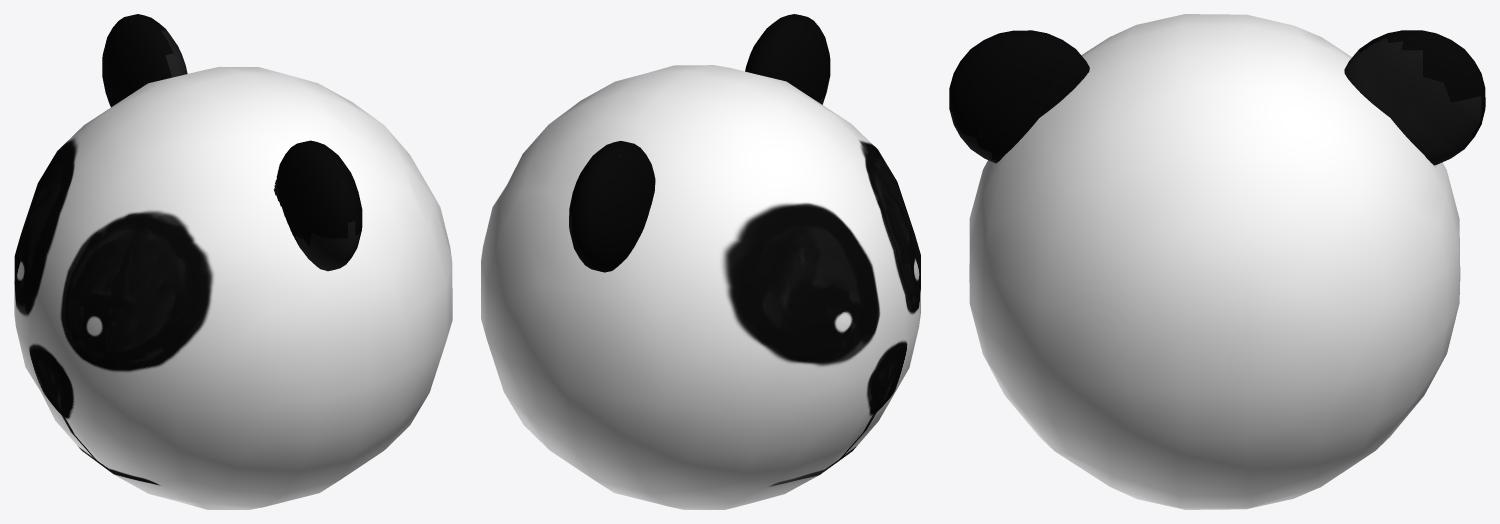
The model's file is NewPanda.fbx.
The picture shows the model from 3 angles, left to right: view 1: azimuth 30°, elevation 25°; view 2: azimuth 150°, elevation 25°; view 3: azimuth 270°, elevation 25°; orthographic projection. The views are drawn at different scales.
Visible parts, largest first — view 1: Panda; view 2: Panda; view 3: Panda.
Part boxes in pixels (bbox=[...]): Panda: bbox=[14, 14, 452, 509]; Panda: bbox=[481, 14, 920, 509]; Panda: bbox=[949, 14, 1485, 509].
Bounding box in the file's own units: 19.45 × 19.82 × 21.24.
1 material, 1 textured.
